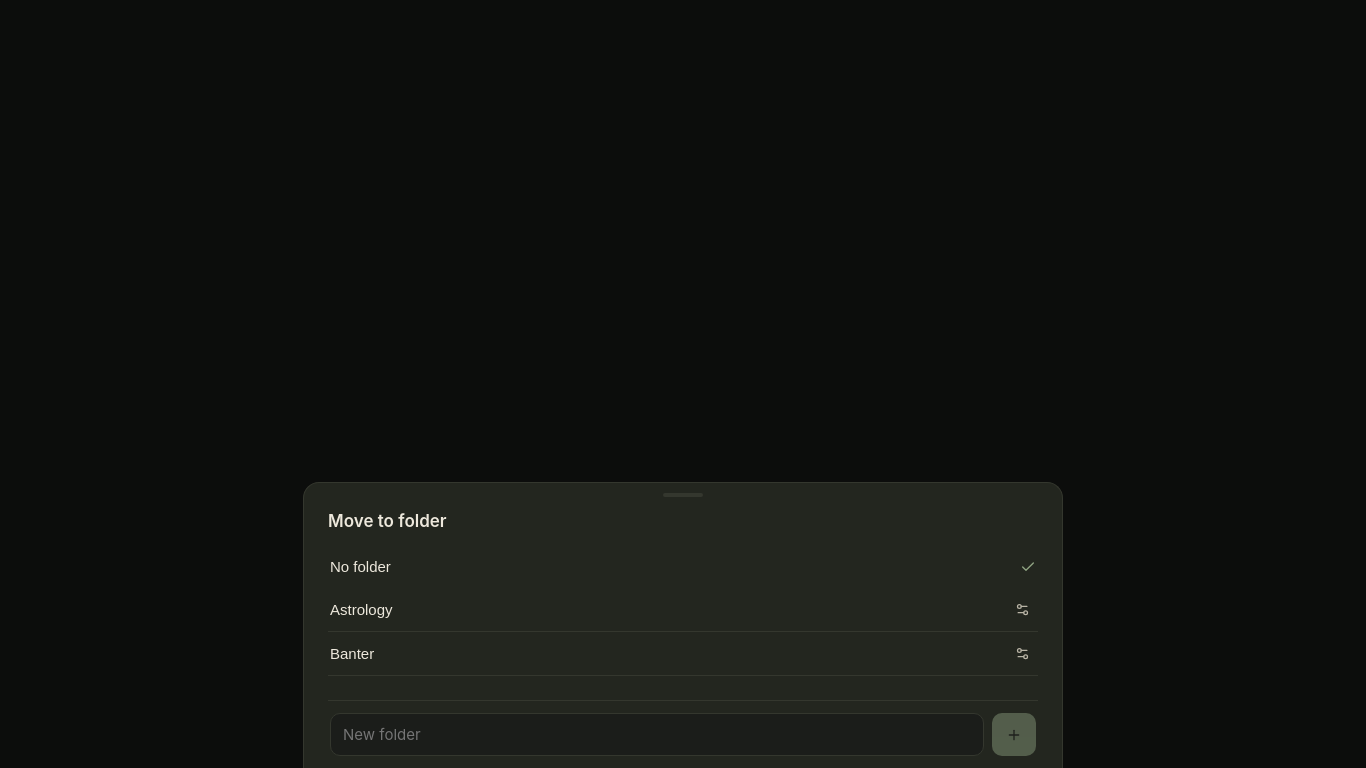
Test: FolderPicker › opens a folder's own settings page, titled with its name, and comes back
Click the button named "Edit Astrology": (1022, 610) [1006,594,1038,626]
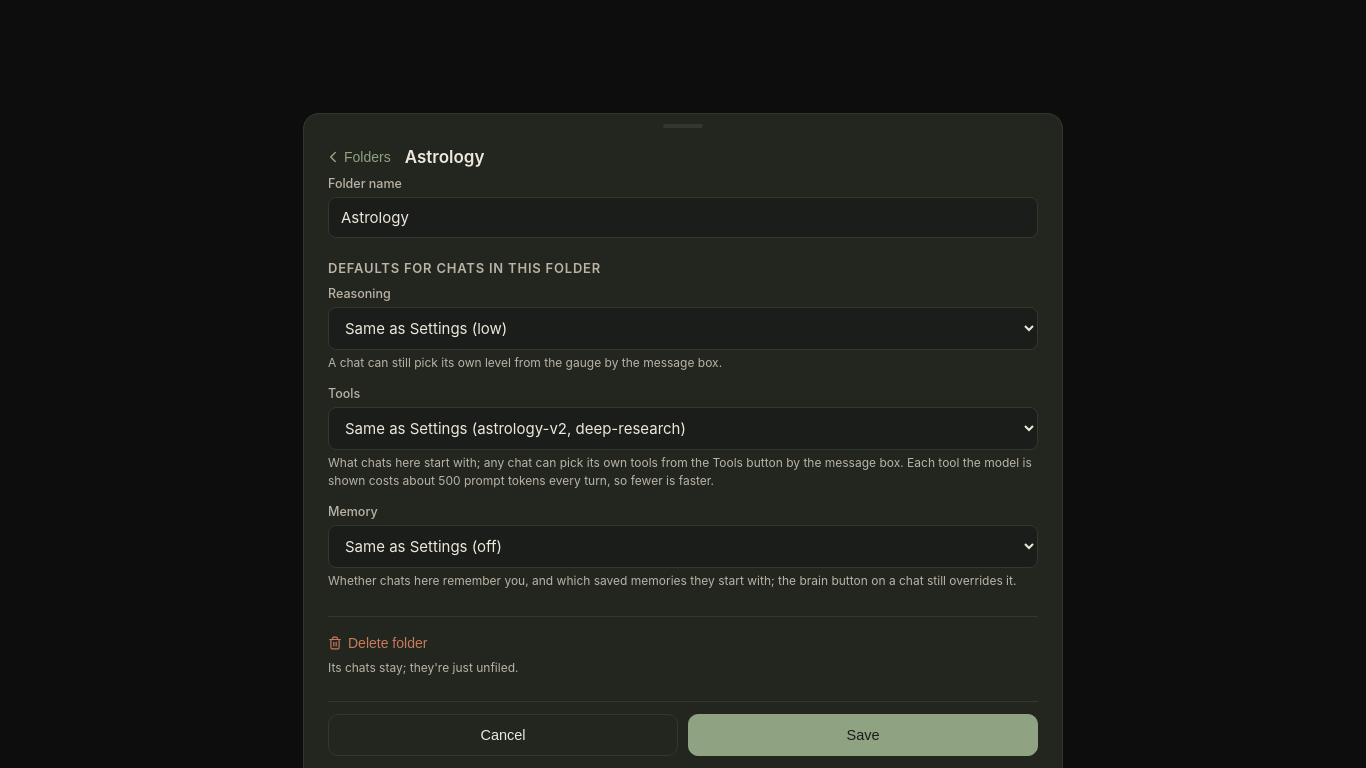
Expected: the heading "Astrology" is shown, [405,147,484,167]
Expected: the button "Banter" is gone
Click the button with aria-label "Back to folders": (359, 157) [320,142,399,172]
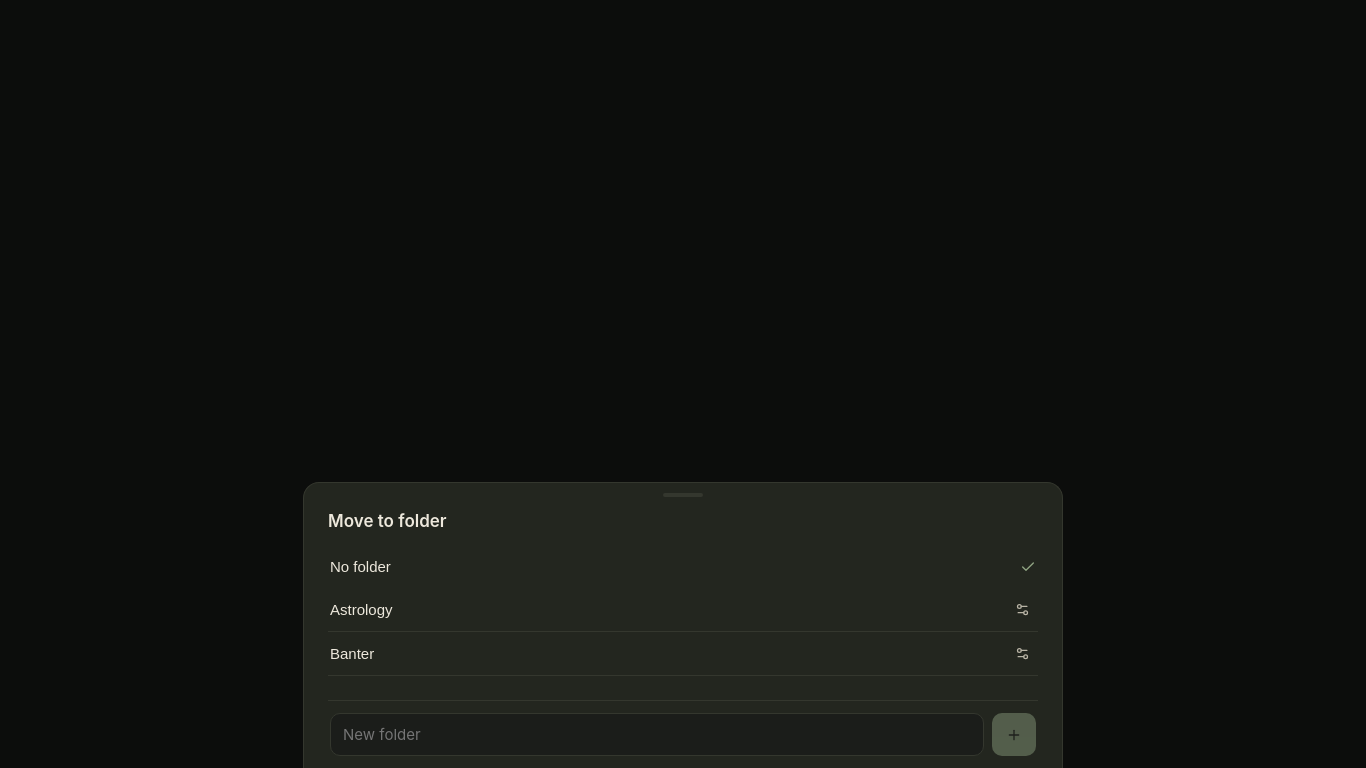
Expected: the button "Banter" is shown, [328,632,1006,675]
